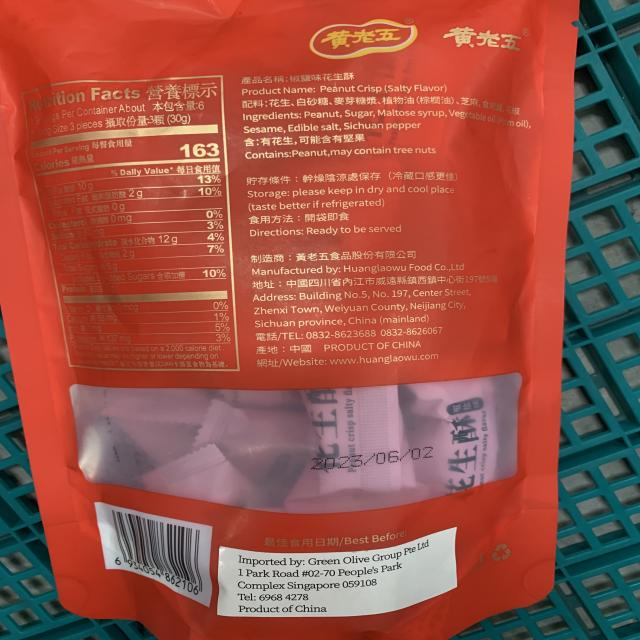object_name: (7, 0, 555, 640)
